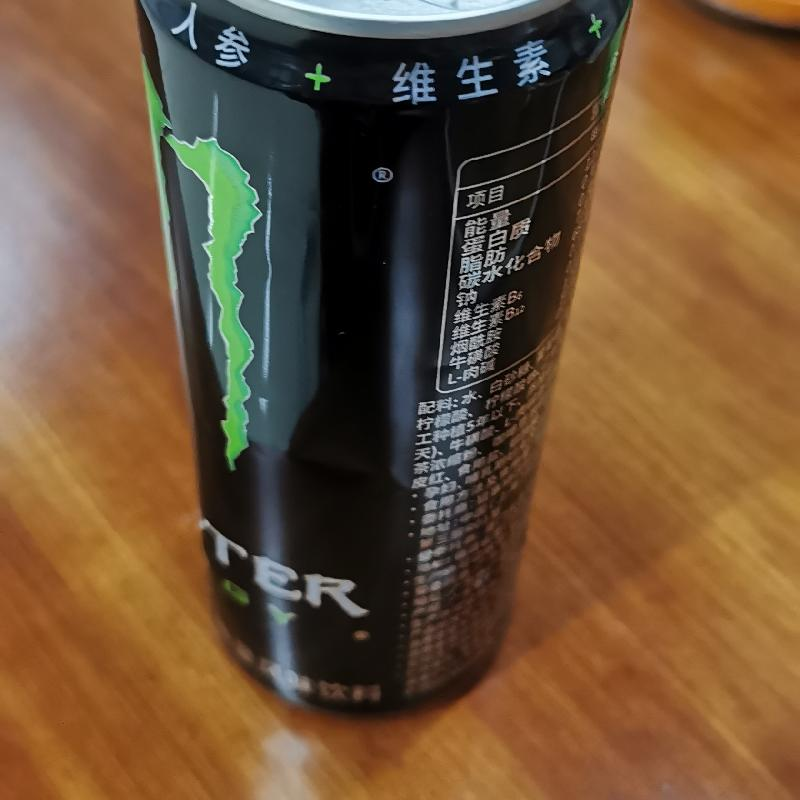cans: (127, 1, 640, 718)
